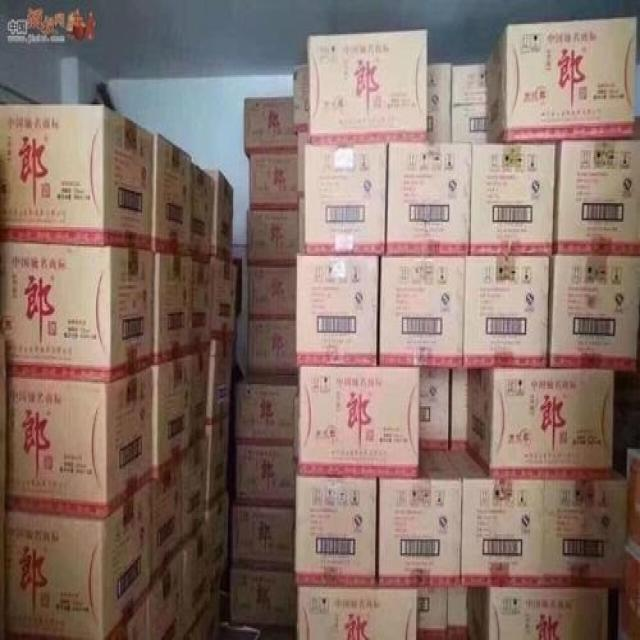box: (0, 483, 152, 640), (0, 367, 152, 521), (0, 104, 154, 249), (0, 241, 152, 382), (485, 15, 637, 143), (467, 369, 614, 478), (296, 365, 420, 480), (307, 29, 428, 142), (448, 451, 544, 587), (378, 449, 462, 587), (547, 256, 640, 370), (552, 138, 640, 256), (543, 466, 627, 587), (462, 254, 549, 369), (384, 143, 472, 256), (468, 143, 556, 256), (379, 256, 466, 367), (297, 253, 379, 369), (305, 142, 388, 256), (293, 474, 378, 585), (468, 587, 609, 638), (297, 582, 417, 640), (152, 251, 195, 369), (152, 131, 192, 256), (152, 357, 191, 483), (229, 563, 298, 628), (236, 372, 298, 444), (150, 464, 184, 594), (230, 505, 294, 568), (236, 444, 298, 507), (146, 550, 184, 640), (183, 522, 212, 638), (244, 97, 298, 157), (182, 437, 209, 550), (451, 63, 489, 143), (247, 208, 300, 265), (247, 316, 298, 374), (416, 587, 470, 640), (250, 150, 298, 208), (248, 261, 297, 317), (419, 367, 449, 451), (206, 169, 233, 261), (191, 162, 215, 261), (189, 346, 210, 459), (207, 340, 234, 427), (616, 544, 640, 640), (205, 492, 228, 591), (211, 256, 237, 341), (206, 415, 229, 510), (426, 63, 452, 143), (183, 582, 219, 638), (106, 594, 147, 640), (192, 258, 211, 357), (626, 447, 639, 558), (452, 369, 468, 451), (293, 61, 308, 133), (298, 133, 308, 198), (298, 198, 306, 253)
